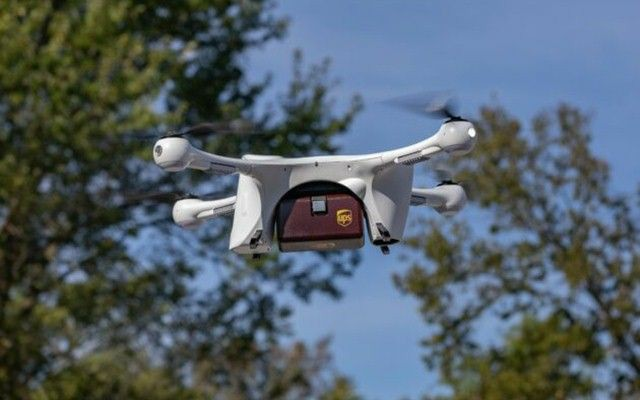maybay_khongnguoilai: (127, 115, 490, 253)
